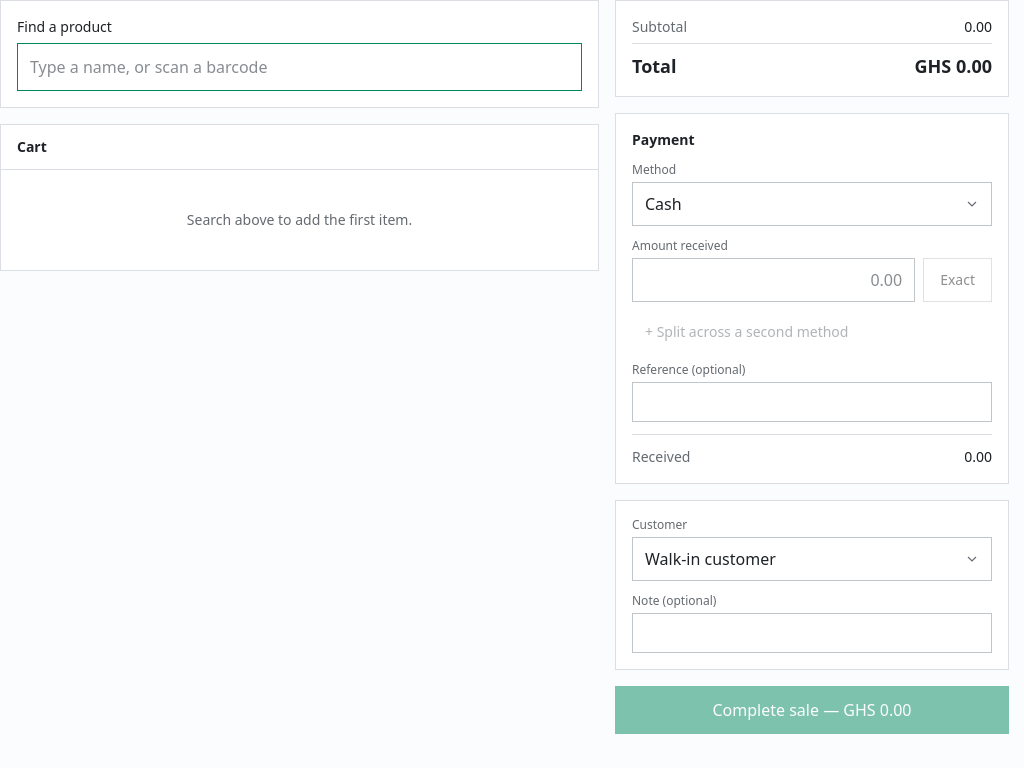
Test: what the cashier is told about dates › mentions the date quietly when stock is inside the warning window
Type "Milk" into the field labelled "Find a product".
click(300, 67); type("Milk")  # box [17,43,582,91]
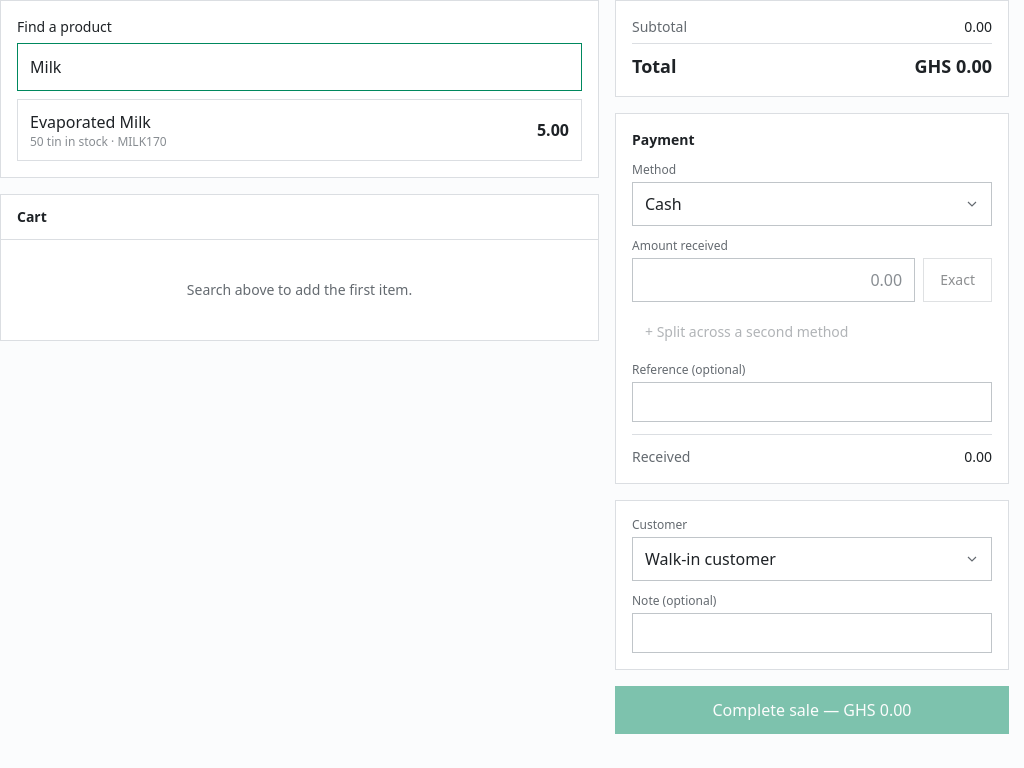
Click the button "Evaporated Milk 50 tin in stock · MILK170 5.00".
click(90, 122)  # box [18,100,581,160]
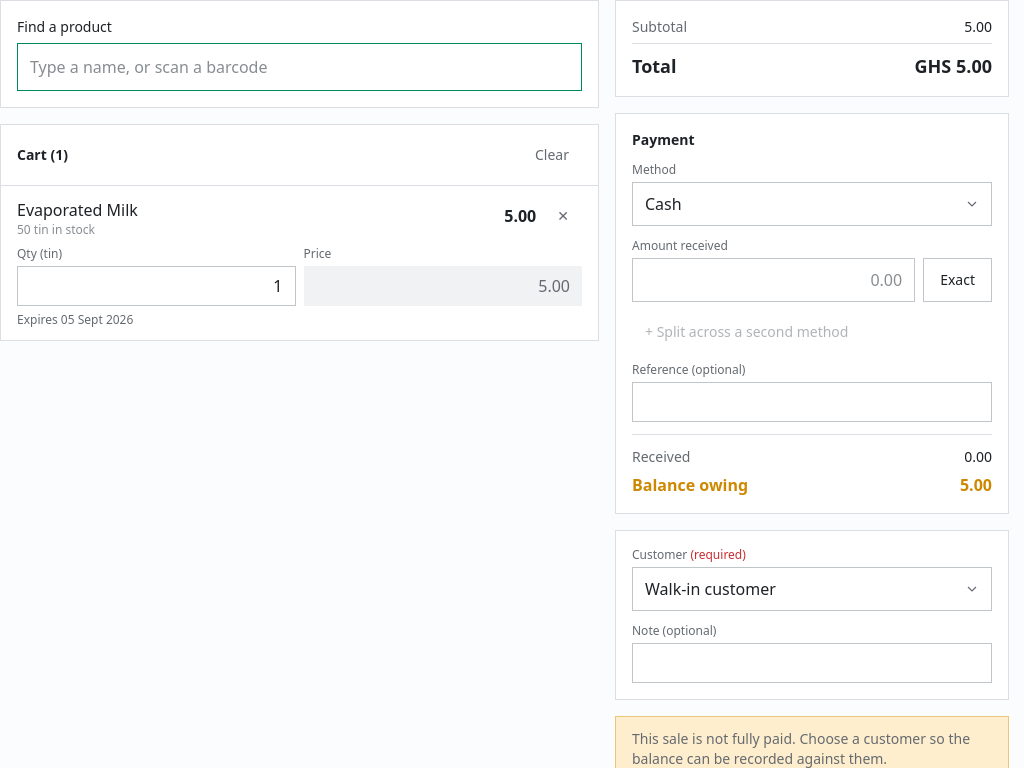
Now the text "Expires 05 Sept 2026" is shown, box [17,311,133,328]
